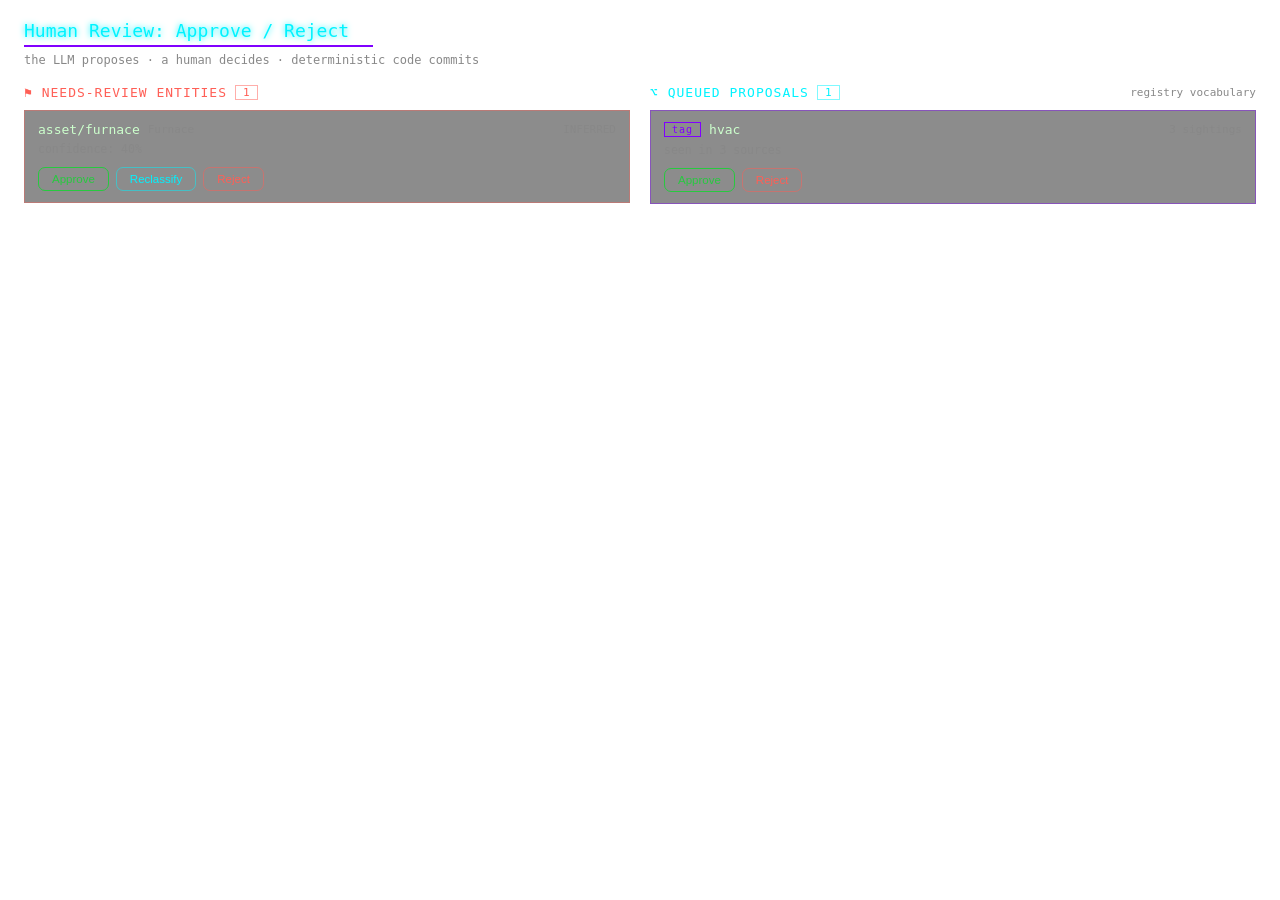
Scenario: Review Screen › reclassify dialog › renders a 409 error inline without closing the dialog
This screenshot has width=1280, height=900.
Click the button "Reclassify" at x=156, y=179, box [116,167,196,191]
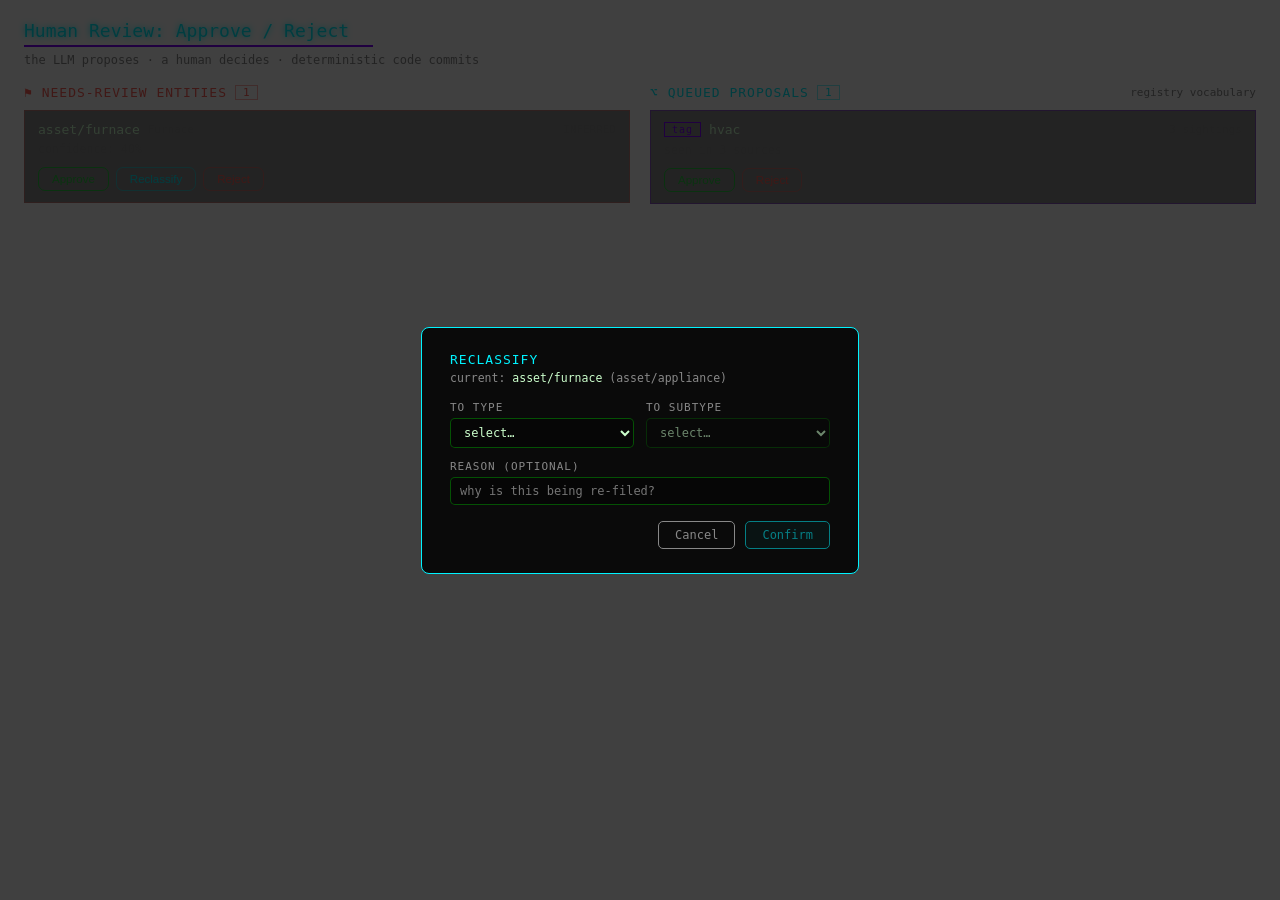
Select "property" in the dropdown named "target type" at x=542, y=432, box [450,418,634,448]
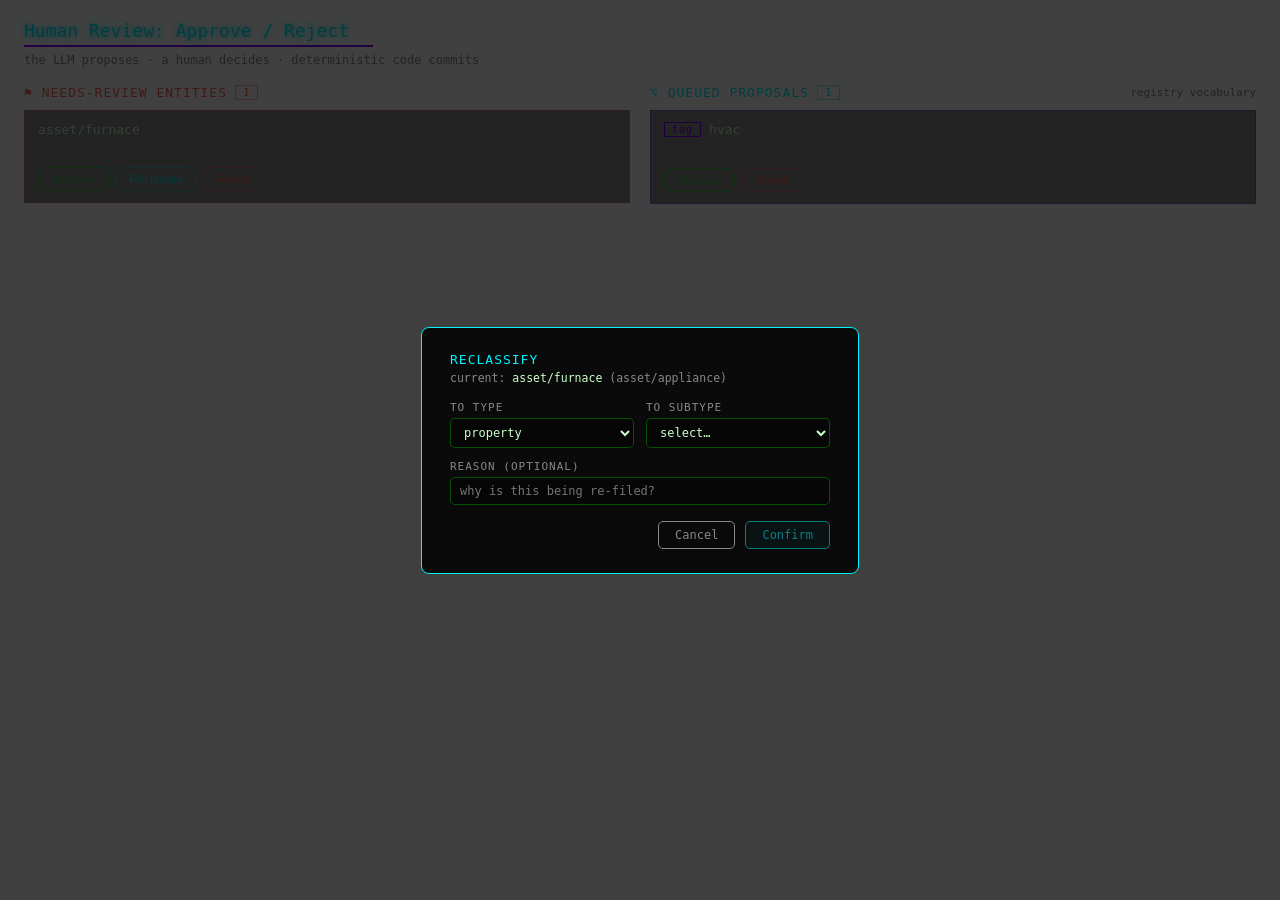
Select "home" in the dropdown named "target subtype" at x=738, y=432, box [646,418,830,448]
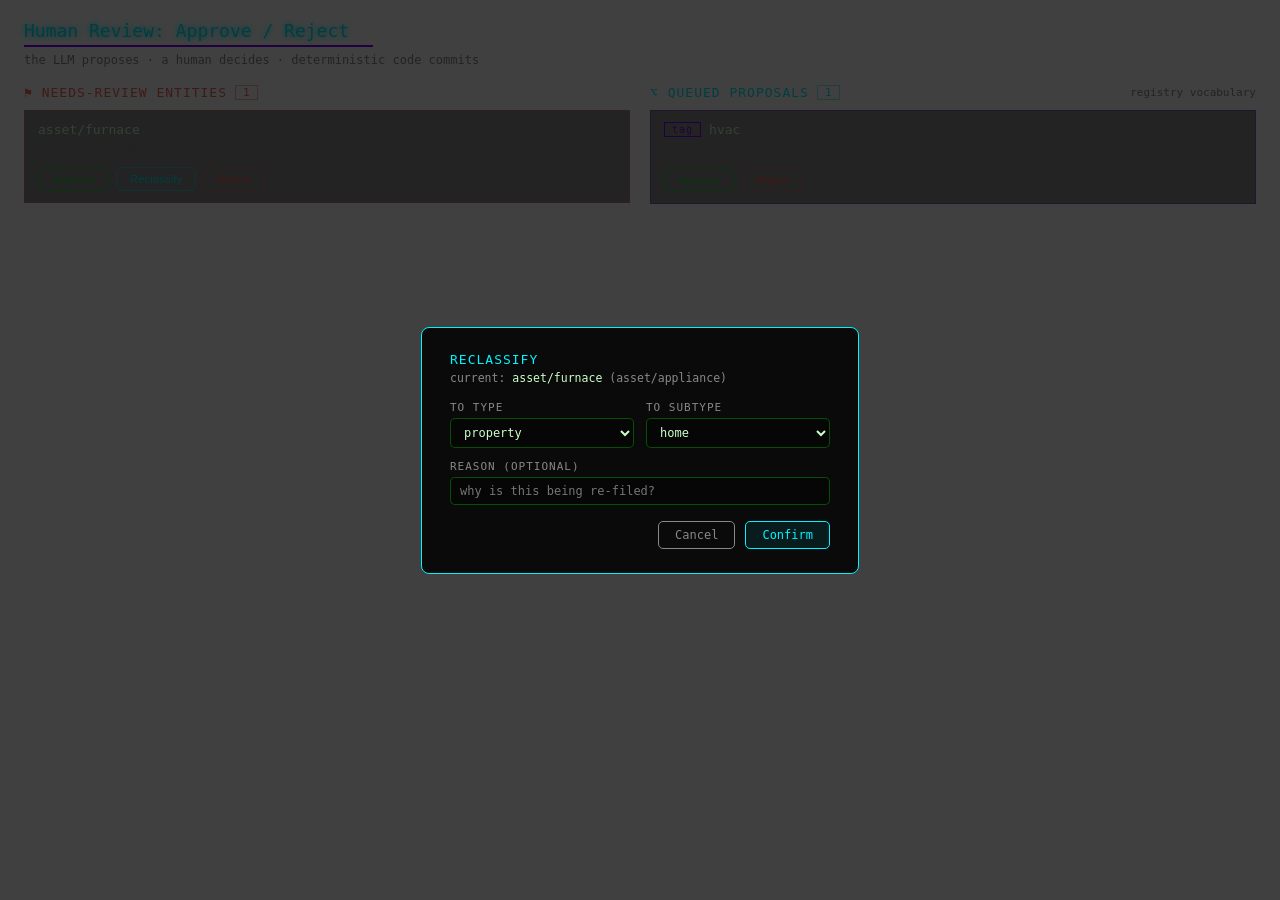
Click the button "Confirm" at x=788, y=534, box [745,520,830,548]
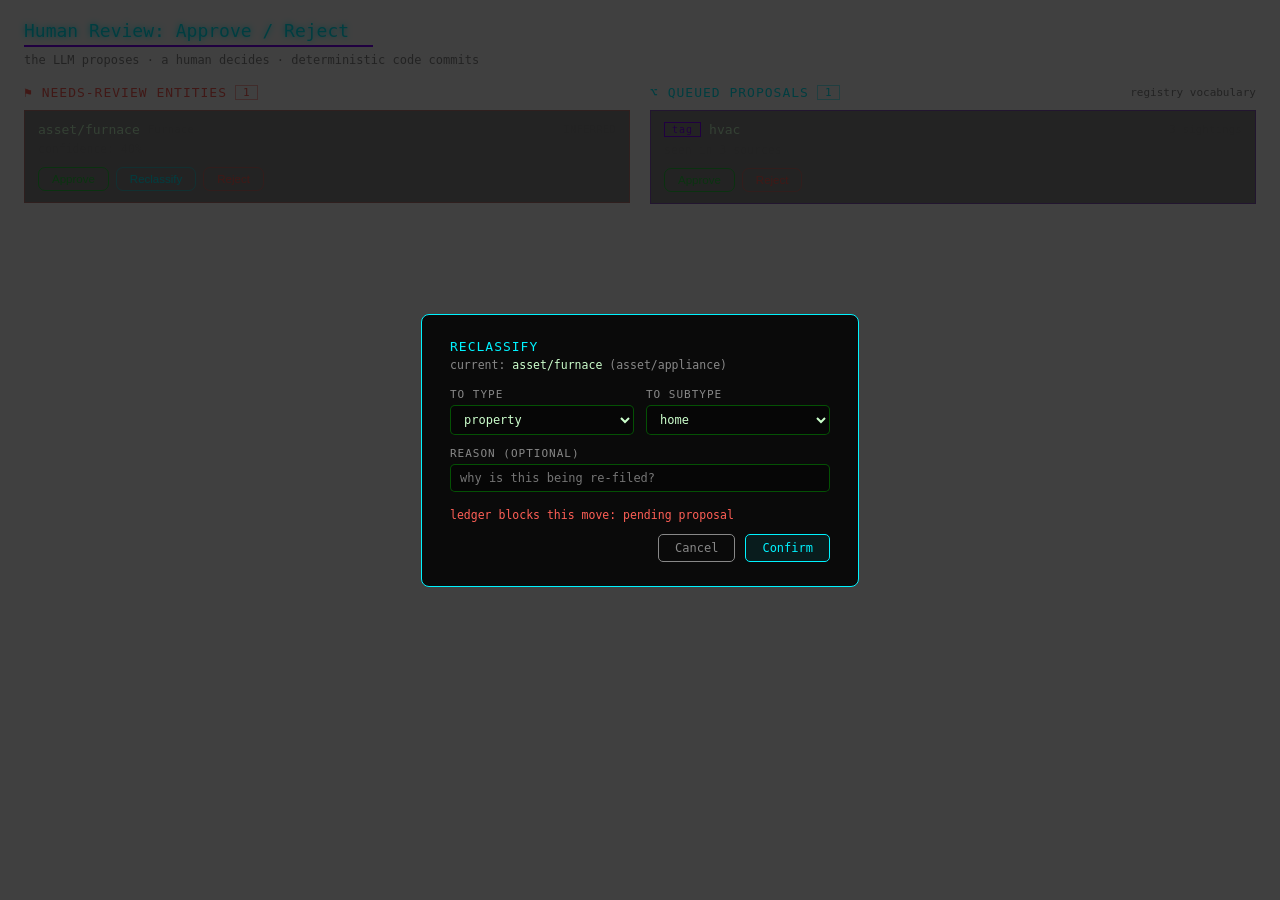
Now the dialog named "Reclassify asset/furnace" is shown
Now the text "ledger blocks this move: pending proposal" is shown, box [450,508,734,522]
